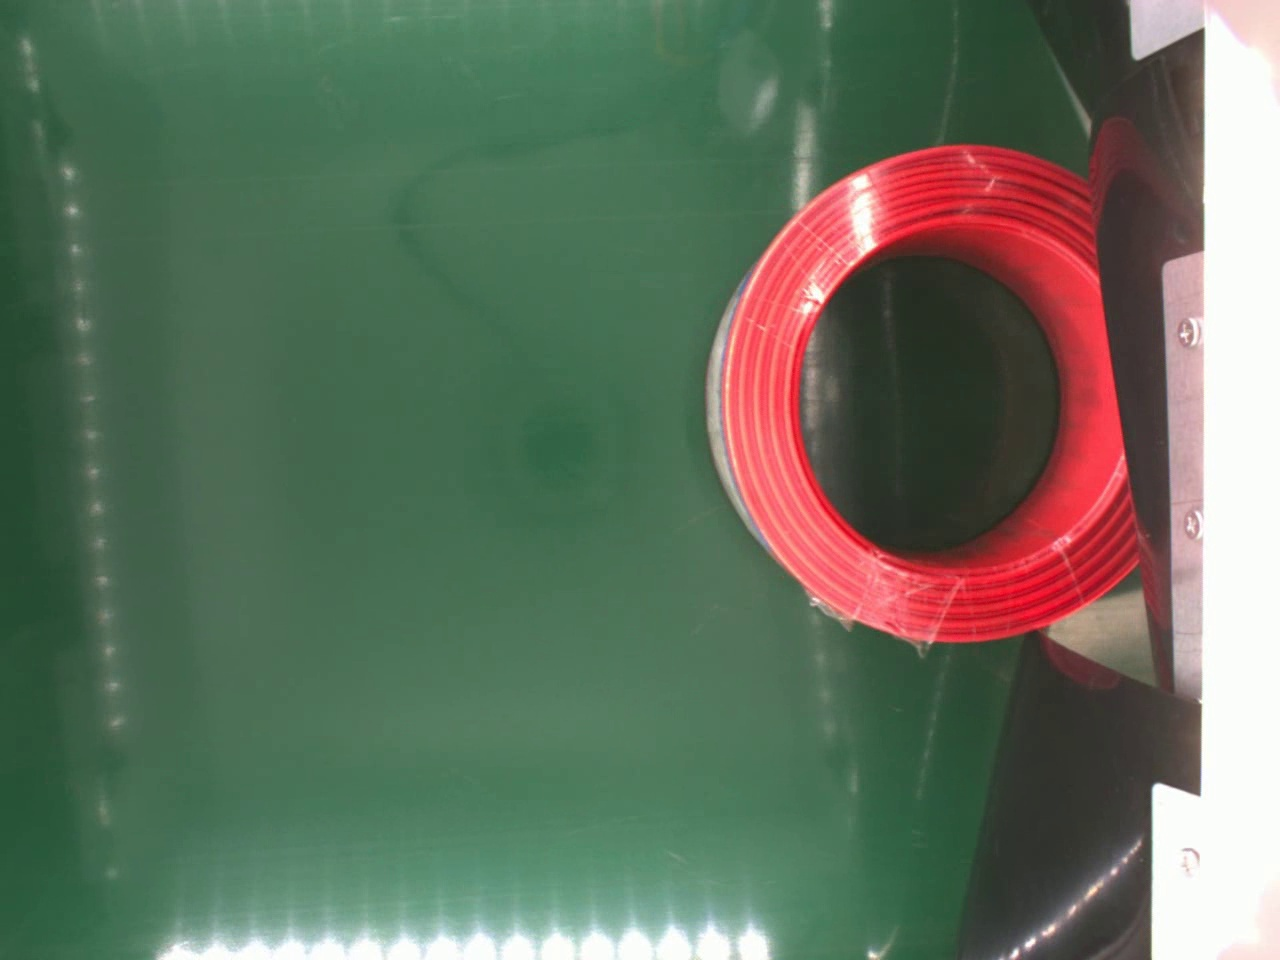red: (701, 140, 1142, 643)
